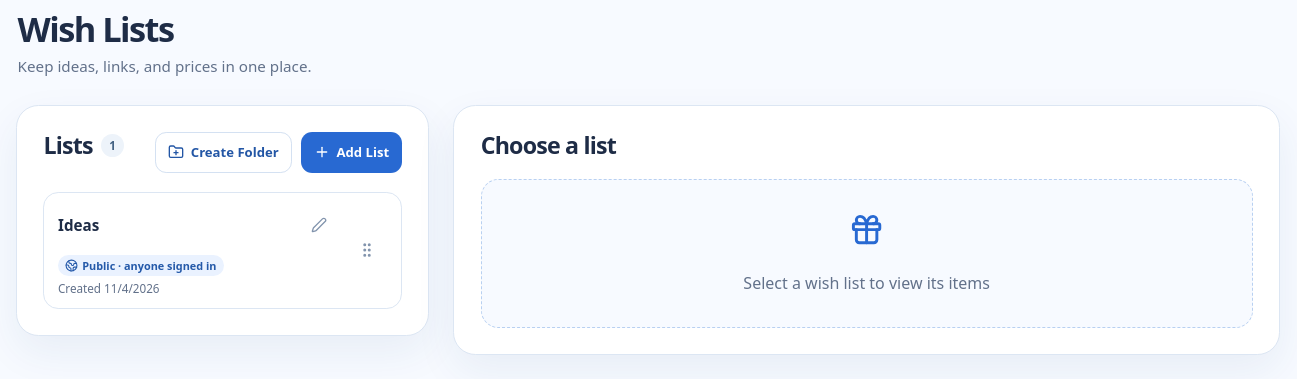
it: shows item placeholders while an opened list loads
The image size is (1297, 379).
Later steps or results of the test are not shown.
Click the button "Ideas Public · anyone signed in Created 11/4/2026" at (79, 225), box [43,192,402,309]
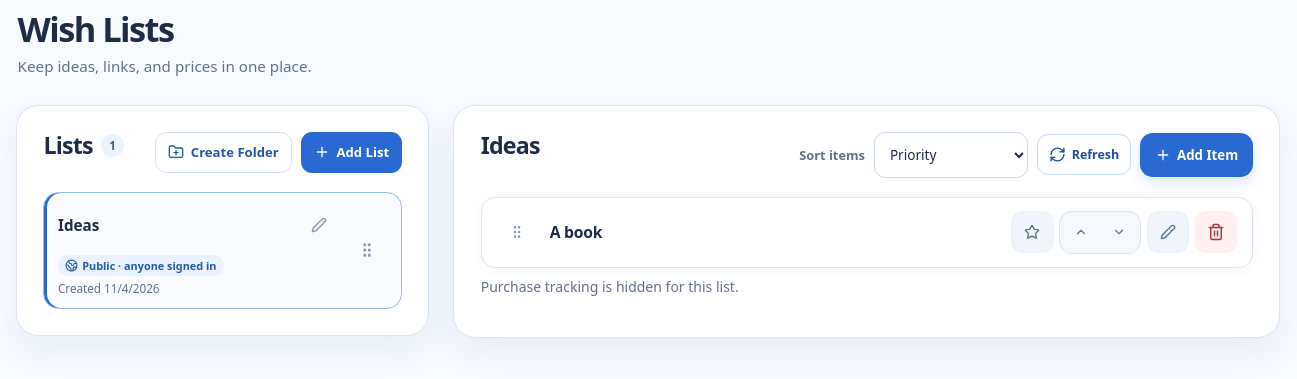
Expected: the heading "A book" is shown, [550,221,602,243]
